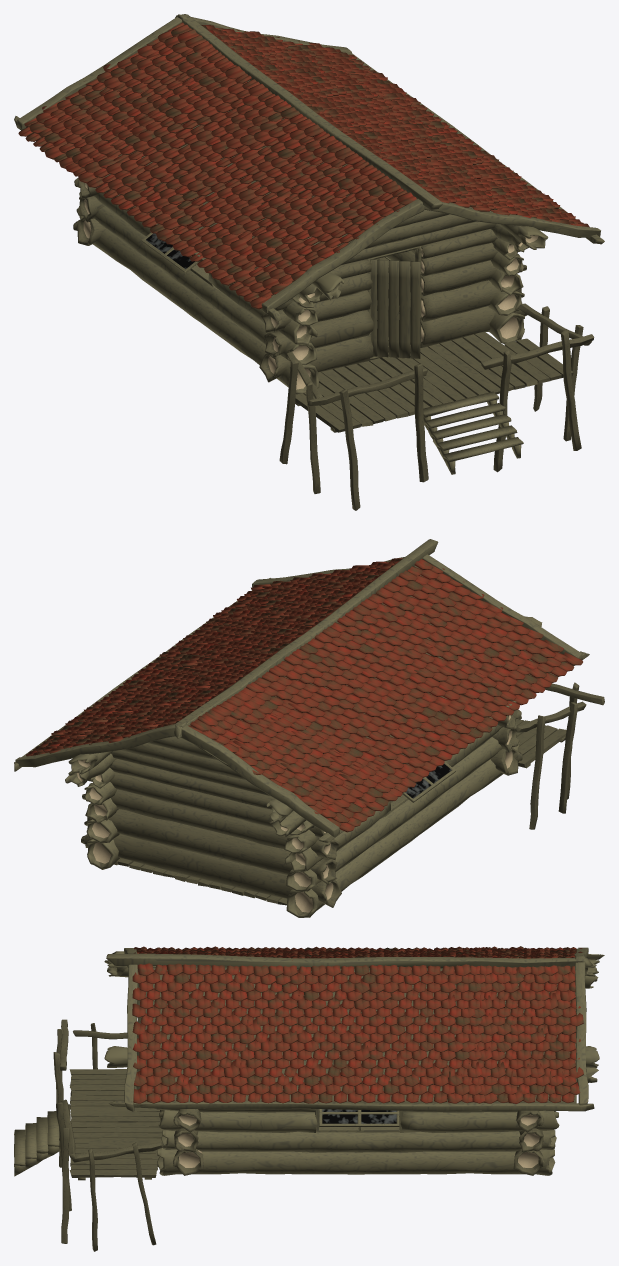
The model's file is cabin.fbx.
3 renders of one model, top to bottom at view 1: azimuth 30°, elevation 25°; view 2: azimuth 150°, elevation 25°; view 3: azimuth 270°, elevation 25°, orthographic. The views are drawn at different scales.
Visible parts, largest first — view 1: cabin, door, window_R; view 2: cabin, window_R; view 3: cabin, window_L.
Part boxes in pixels (x1,y1,x2,y2): cabin: (14,14,604,510); door: (371,259,420,358); window_R: (141,232,198,273); cabin: (14,539,604,917); window_R: (402,761,455,802); cabin: (14,946,604,1251); window_L: (319,1109,399,1126).
Size of the model in its own units: 837 by 611 by 1360.
